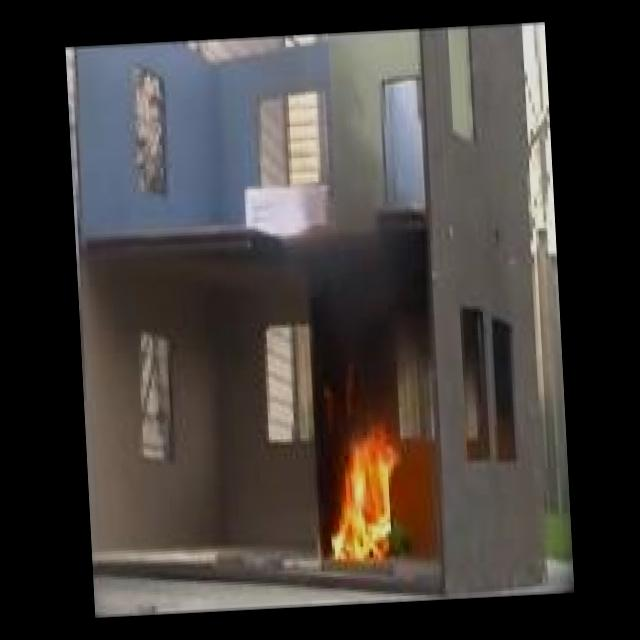fire: (308, 401, 426, 592)
